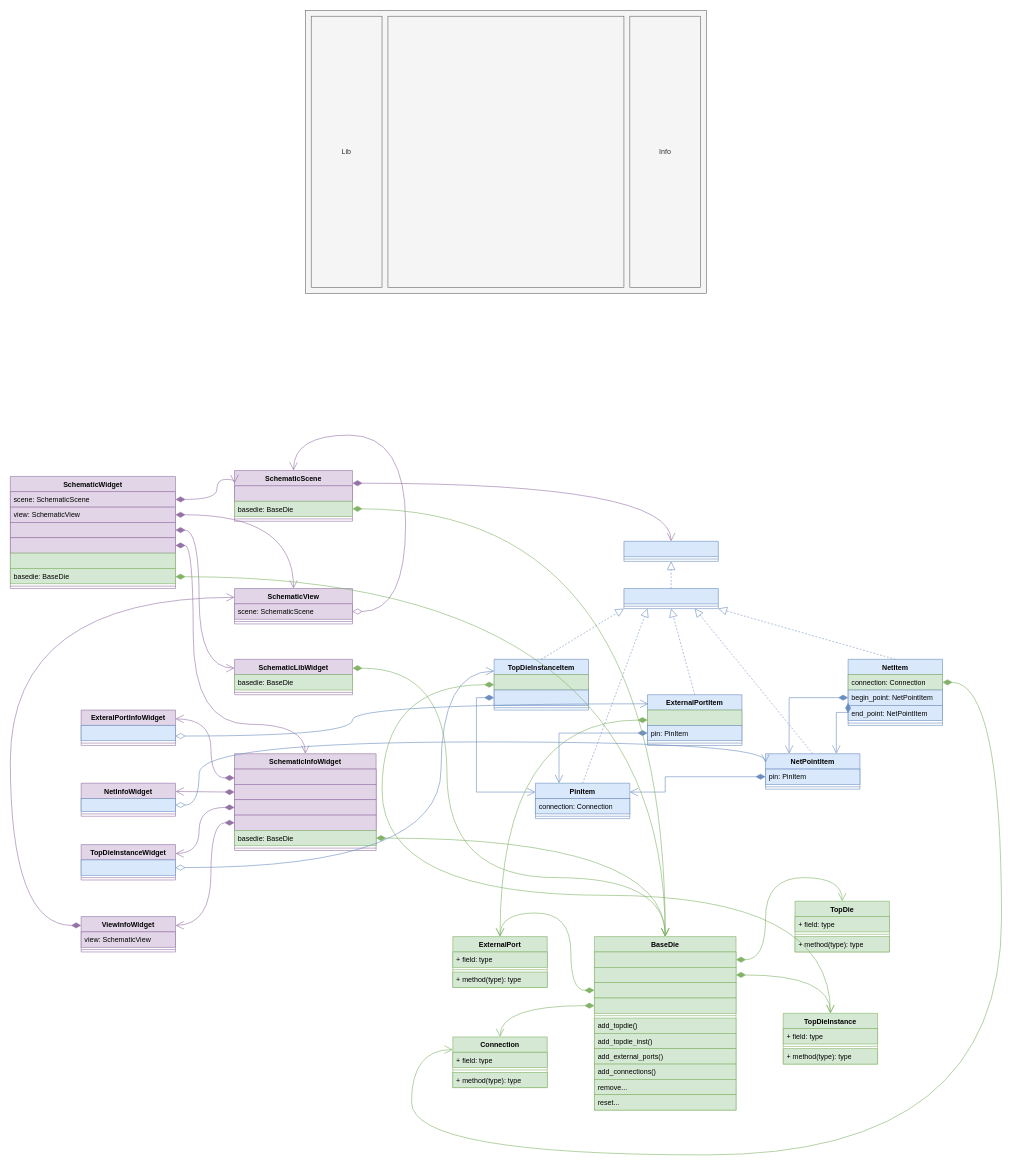
This 1012x1165 diagram has some shape labels left out. The shapes that lost their labels are listed below. From the top down, each one's centre as x and y in pixels, then its label:
the point at 505,152: View
the point at 293,493: items: Collection<QGraphicsItems>
the point at 93,530: libWidget: SchematicLibWidget
the point at 93,545: infoWidget: SchematicInfoWidget
the point at 93,560: interposer: Interposer
the point at 670,551: QGraphicsItem
the point at 670,598: GridItem
the point at 541,682: topdie_inst: TopDieInstance
the point at 541,697: pins: Map<Str, PinItem>
the point at 128,733: eport: ExternalPortItem
the point at 694,717: export: ExternalPort
the point at 305,776: eportInfoWidget: ExteralPortInfoWidget
the point at 305,792: netInfoWidget: NetInfoWidget
the point at 128,805: net: NetItem
the point at 305,807: topdieInfoWidget: TopDieInstanceWidget
the point at 305,822: viewInfoWidget: ViewInfoWidget
the point at 128,867: topdie: TopDieInstanceItem
the point at 665,959: topdies: Map<Str, TopDie>
the point at 665,975: topdie_insts: Map<Str, TopDieInstance>
the point at 665,990: external_ports: Map<Str, ExternalPort>
the point at 665,1005: connections: Map<int, Vec<Connection>>
